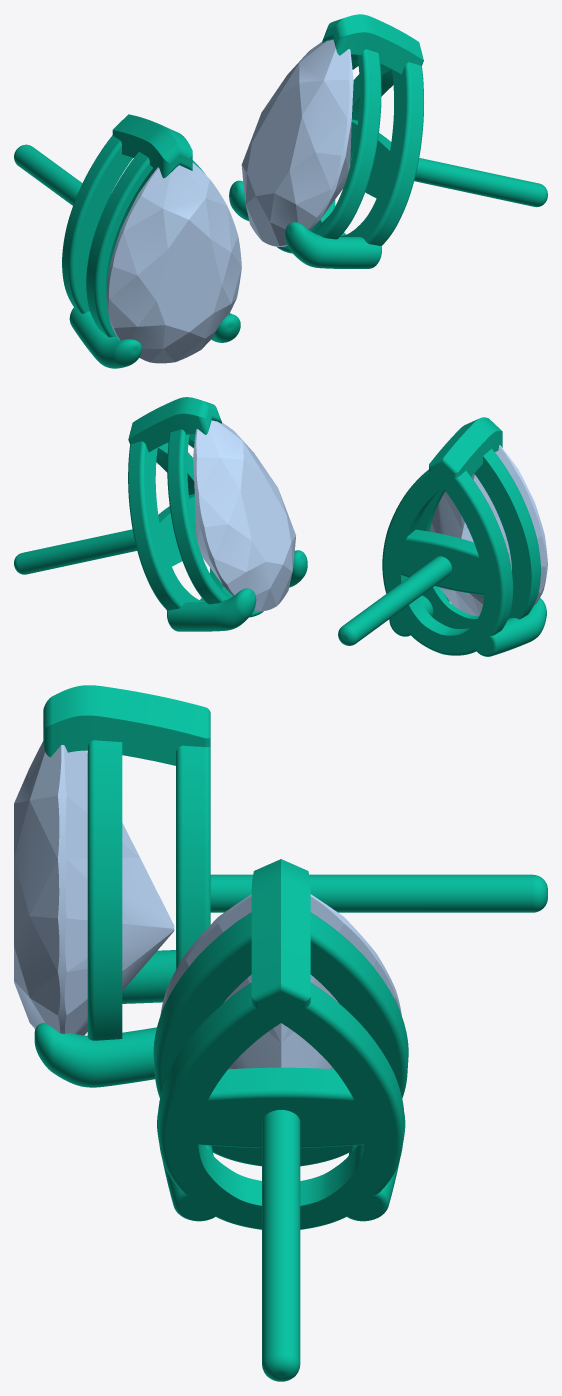
3 renders of one model, top to bottom at view 1: azimuth 30°, elevation 25°; view 2: azimuth 150°, elevation 25°; view 3: azimuth 270°, elevation 25°, orthographic. The views are drawn at different scales.
Parts seen in each view (by area): view 1: Diamond_Pear (×2), Bezel (×4), VEAR704 02.3dm, Head Prong (×4); view 2: Bezel (×4), Diamond_Pear (×2), VEAR704 02.3dm, Head Prong (×4); view 3: Bezel (×4), VEAR704 02.3dm, Diamond_Pear (×2), Head Prong (×4).
Boxes of the visible parts, x1=… form: Diamond_Pear (×2): x1=106, y1=39, x2=353, y2=363; Bezel (×4): x1=62, y1=49, x2=423, y2=337; VEAR704 02.3dm: x1=14, y1=14, x2=547, y2=258; Head Prong (×4): x1=69, y1=180, x2=381, y2=368; Bezel (×4): x1=128, y1=429, x2=540, y2=655; Diamond_Pear (×2): x1=193, y1=420, x2=547, y2=616; VEAR704 02.3dm: x1=14, y1=397, x2=502, y2=645; Head Prong (×4): x1=167, y1=550, x2=546, y2=656; Bezel (×4): x1=87, y1=740, x2=408, y2=1229; VEAR704 02.3dm: x1=43, y1=685, x2=547, y2=1381; Diamond_Pear (×2): x1=14, y1=741, x2=401, y2=1069; Head Prong (×4): x1=34, y1=950, x2=405, y2=1221.
Size of the model in its own units: 3.24 by 1.44 by 1.85.
